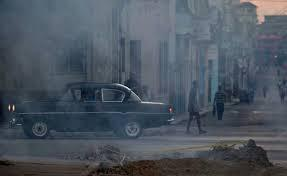smoke: (0, 0, 287, 163)
